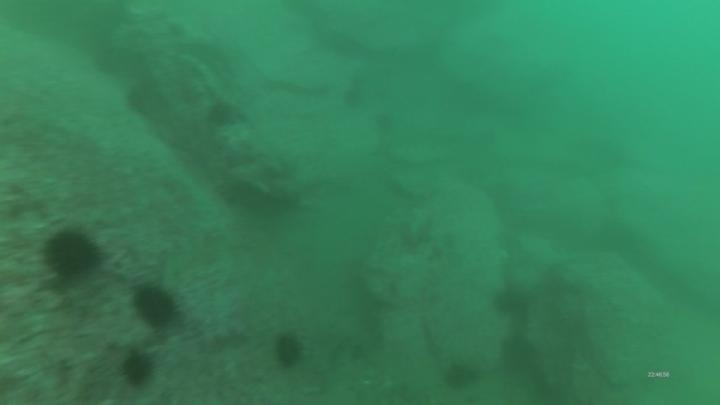echinus: (40, 226, 105, 284), (130, 282, 181, 330), (498, 332, 540, 376), (118, 349, 157, 389), (490, 283, 532, 320), (271, 330, 306, 371), (440, 359, 481, 393), (203, 98, 238, 130), (340, 83, 367, 111), (371, 109, 398, 137)
